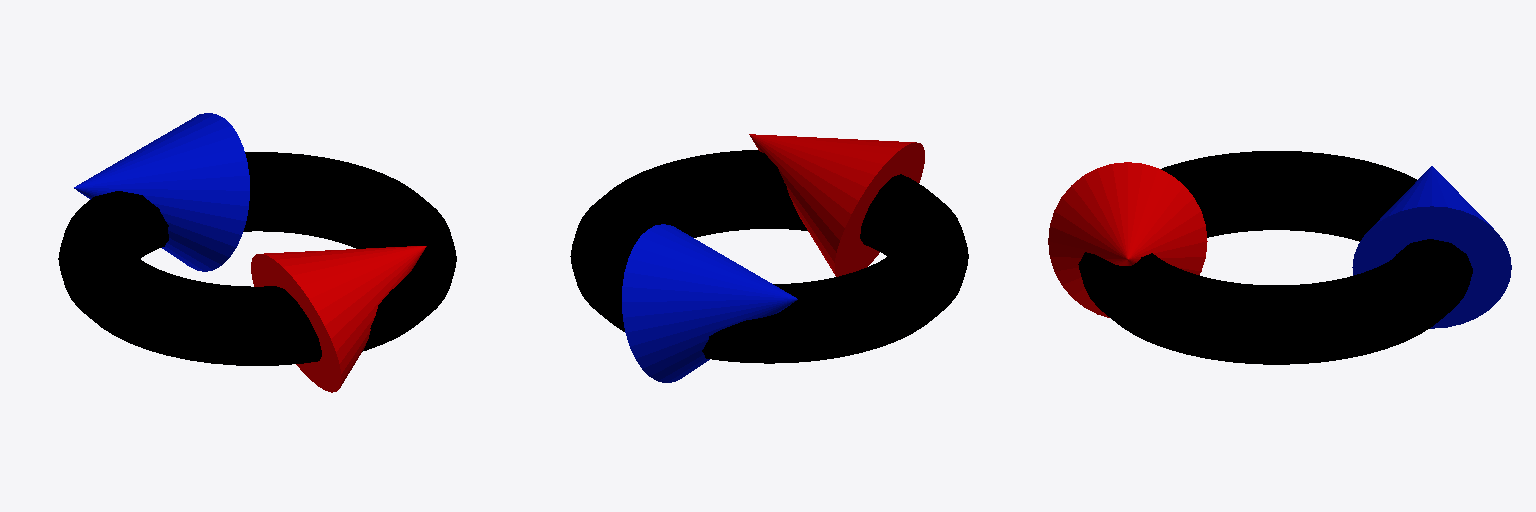
The model's file is Item.obj.
3 renders of one model, left to right at view 1: azimuth 30°, elevation 25°; view 2: azimuth 150°, elevation 25°; view 3: azimuth 270°, elevation 25°, orthographic.
Parts seen in each view (by area): view 1: トーラス, 円錐.001, 円錐; view 2: トーラス, 円錐.001, 円錐; view 3: トーラス, 円錐, 円錐.001.
Boxes of the visible parts, x1,y1,x2,y2 form: トーラス: [58, 152, 456, 365]; 円錐.001: [74, 113, 249, 271]; 円錐: [251, 246, 426, 392]; トーラス: [570, 150, 968, 363]; 円錐.001: [622, 224, 797, 382]; 円錐: [749, 134, 924, 276]; トーラス: [1078, 151, 1472, 364]; 円錐: [1048, 162, 1207, 317]; 円錐.001: [1352, 166, 1511, 328].
Bounding box in the file's own units: 2.5 × 0.9871 × 2.91.